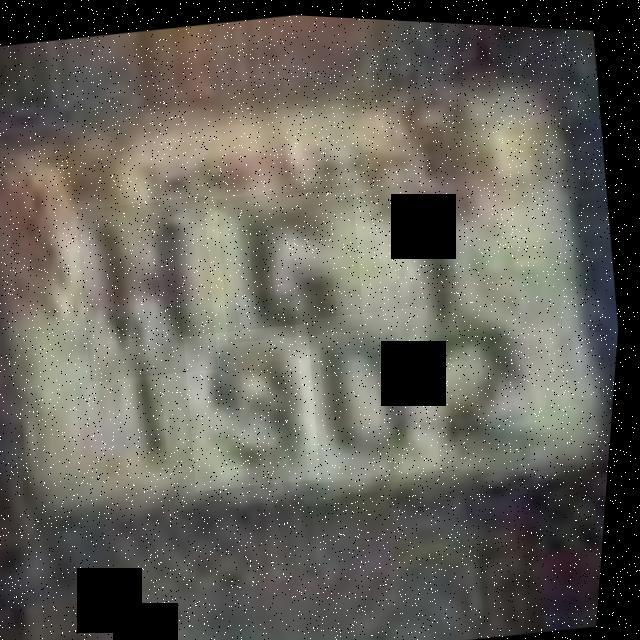0: (290, 296, 457, 486)
1: (94, 331, 206, 479)
2: (393, 271, 572, 462)
9: (180, 315, 337, 494)
N: (70, 189, 234, 386), (211, 176, 377, 346)
